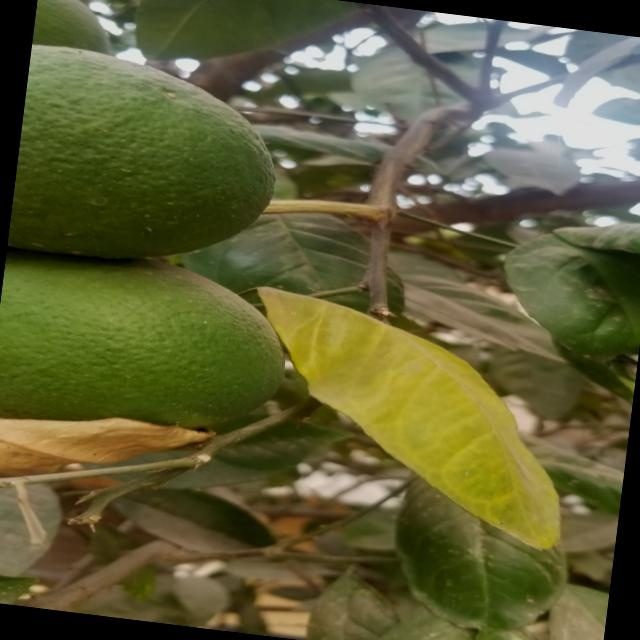agrume: (5, 40, 291, 292), (0, 237, 283, 482)
